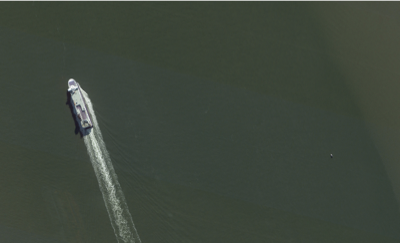boat: (67, 77, 95, 131), (331, 153, 333, 157)
